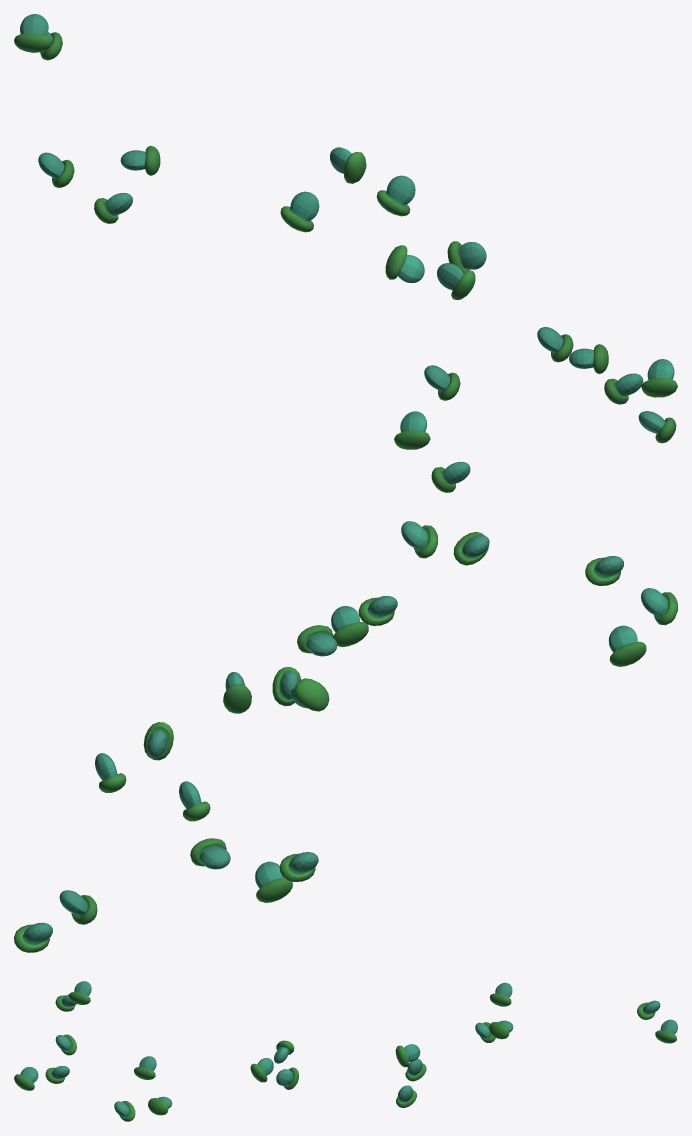
Rendered from Ribosomas.fbx.
3 renders of one model, top to bottom at view 1: azimuth 30°, elevation 25°; view 2: azimuth 150°, elevation 25°; view 3: azimuth 270°, elevation 25°, orthographic. The views are drawn at different scales.
Visible parts, largest first — view 1: Mitocondria_Detallada_v2:pSphere17, Mitocondria_Detallada_v2:pSphere10, Mitocondria_Detallada_v2:pSphere16, Mitocondria_Detallada_v2:pSphere19, Mitocondria_Detallada_v2:pSphere9, Mitocondria_Detallada_v2:pSphere20, Mitocondria_Detallada_v2:pSphere3, Mitocondria_Detallada_v2:pSphere18, Mitocondria_Detallada_v2:pSphere11, Mitocondria_Detallada_v2:pSphere7, Mitocondria_Detallada_v2:pSphere21, Mitocondria_Detallada_v2:pSphere12 (+6 smaller); view 2: Mitocondria_Detallada_v2:pSphere22, Mitocondria_Detallada_v2:pSphere5, Mitocondria_Detallada_v2:pSphere14, Mitocondria_Detallada_v2:pSphere6, Mitocondria_Detallada_v2:pSphere13, Mitocondria_Detallada_v2:pSphere9, Mitocondria_Detallada_v2:pSphere20, Mitocondria_Detallada_v2:pSphere19, Mitocondria_Detallada_v2:pSphere7, Mitocondria_Detallada_v2:pSphere11, Mitocondria_Detallada_v2:pSphere15, Mitocondria_Detallada_v2:pSphere21 (+7 smaller); view 3: Mitocondria_Detallada_v2:pSphere11, Mitocondria_Detallada_v2:pSphere8, Mitocondria_Detallada_v2:pSphere12, Mitocondria_Detallada_v2:pSphere15, Mitocondria_Detallada_v2:pSphere7, Mitocondria_Detallada_v2:pSphere21, Mitocondria_Detallada_v2:pSphere3, Mitocondria_Detallada_v2:pSphere18, Mitocondria_Detallada_v2:pSphere6, Mitocondria_Detallada_v2:pSphere13, Mitocondria_Detallada_v2:pSphere17, Mitocondria_Detallada_v2:pSphere10 (+7 smaller).
Part boxes in pixels (x1,y1,x2,y2): Mitocondria_Detallada_v2:pSphere17: [376, 175, 415, 216]; Mitocondria_Detallada_v2:pSphere10: [280, 191, 319, 232]; Mitocondria_Detallada_v2:pSphere16: [14, 14, 51, 52]; Mitocondria_Detallada_v2:pSphere19: [385, 245, 424, 282]; Mitocondria_Detallada_v2:pSphere9: [641, 359, 677, 397]; Mitocondria_Detallada_v2:pSphere20: [394, 411, 430, 449]; Mitocondria_Detallada_v2:pSphere3: [437, 263, 475, 299]; Mitocondria_Detallada_v2:pSphere18: [447, 241, 486, 273]; Mitocondria_Detallada_v2:pSphere11: [330, 147, 366, 183]; Mitocondria_Detallada_v2:pSphere7: [537, 327, 573, 362]; Mitocondria_Detallada_v2:pSphere21: [424, 365, 460, 400]; Mitocondria_Detallada_v2:pSphere12: [38, 152, 74, 187]; Mitocondria_Detallada_v2:pSphere22: [608, 625, 646, 666]; Mitocondria_Detallada_v2:pSphere5: [331, 606, 368, 647]; Mitocondria_Detallada_v2:pSphere14: [255, 861, 292, 902]; Mitocondria_Detallada_v2:pSphere6: [297, 625, 337, 656]; Mitocondria_Detallada_v2:pSphere13: [190, 838, 230, 869]; Mitocondria_Detallada_v2:pSphere9: [401, 521, 438, 558]; Mitocondria_Detallada_v2:pSphere20: [641, 588, 677, 625]; Mitocondria_Detallada_v2:pSphere19: [291, 678, 329, 711]; Mitocondria_Detallada_v2:pSphere7: [358, 596, 397, 625]; Mitocondria_Detallada_v2:pSphere11: [143, 722, 173, 760]; Mitocondria_Detallada_v2:pSphere15: [14, 922, 52, 952]; Mitocondria_Detallada_v2:pSphere21: [585, 556, 623, 585]; Mitocondria_Detallada_v2:pSphere11: [395, 1044, 420, 1067]; Mitocondria_Detallada_v2:pSphere8: [14, 1067, 38, 1090]; Mitocondria_Detallada_v2:pSphere12: [490, 982, 512, 1006]; Mitocondria_Detallada_v2:pSphere15: [655, 1019, 677, 1043]; Mitocondria_Detallada_v2:pSphere7: [134, 1056, 156, 1079]; Mitocondria_Detallada_v2:pSphere21: [69, 981, 91, 1004]; Mitocondria_Detallada_v2:pSphere3: [250, 1058, 273, 1082]; Mitocondria_Detallada_v2:pSphere18: [276, 1067, 298, 1089]; Mitocondria_Detallada_v2:pSphere6: [148, 1096, 172, 1115]; Mitocondria_Detallada_v2:pSphere13: [489, 1020, 513, 1039]; Mitocondria_Detallada_v2:pSphere17: [396, 1085, 416, 1107]; Mitocondria_Detallada_v2:pSphere10: [405, 1058, 426, 1081].
Size of the model in its own units: 15.73 by 5.92 by 49.84.
Materials: 1 (1 with a texture image).
